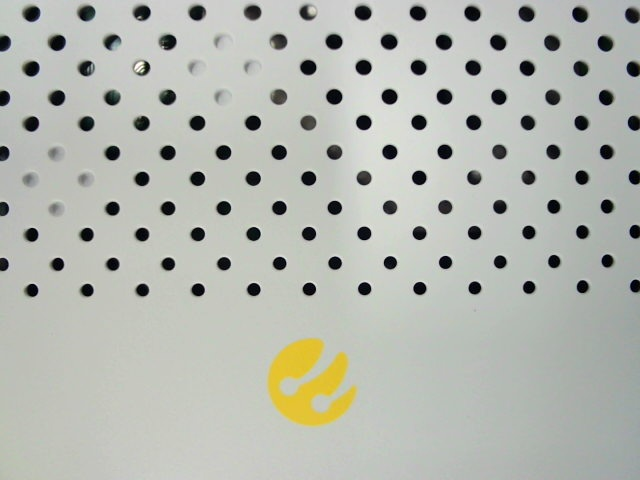AV_H3600Yellow: (260, 329, 363, 430)
